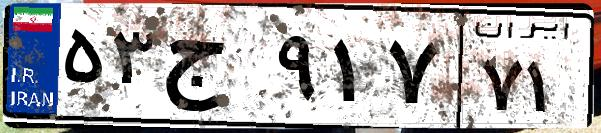1: (330, 28, 385, 110), (525, 38, 570, 115)
3: (110, 28, 158, 98)
5: (57, 26, 110, 100)
7: (385, 28, 445, 110), (475, 38, 525, 113)
9: (270, 28, 330, 110)
ج: (158, 20, 270, 120)
